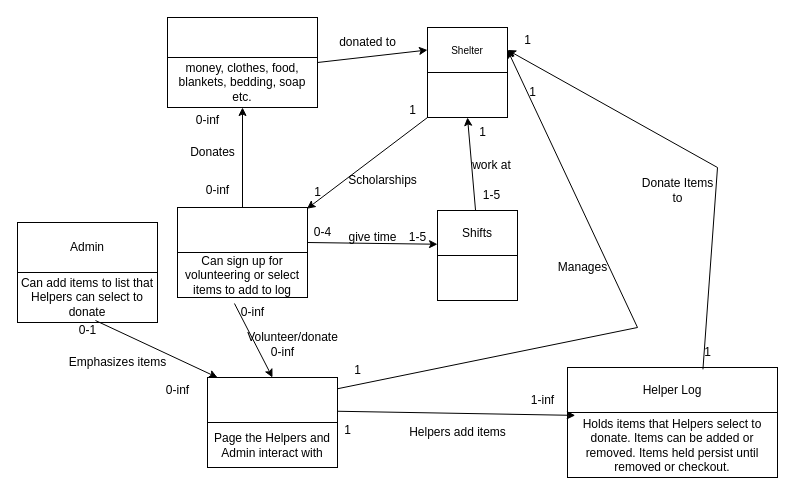
This 795x495 diagram has some shape labels left out. Each missing label, with the centre of its shape:
"Board" belongs at (272,399).
"Donations" belongs at (242,39).
"Helper" belongs at (242,229).
